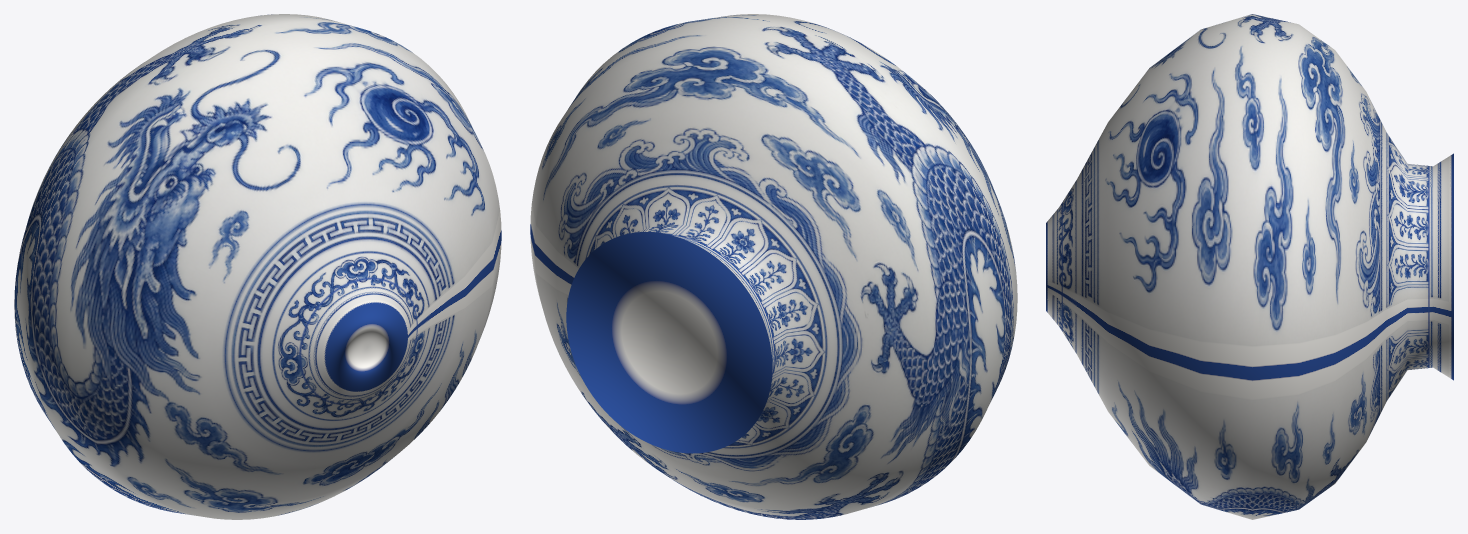
Rendered from dragon-jar-final.glb.
The picture shows the model from 3 angles, left to right: view 1: azimuth 30°, elevation 25°; view 2: azimuth 150°, elevation 25°; view 3: azimuth 270°, elevation 25°; orthographic projection. The views are drawn at different scales.
Parts seen in each view (by area): view 1: dragon_jar; view 2: dragon_jar; view 3: dragon_jar.
Boxes of the visible parts, <box> form: dragon_jar: <box>14,14,501,519</box>; dragon_jar: <box>530,14,1017,519</box>; dragon_jar: <box>1046,14,1453,519</box>.
Bounding box in the file's own units: 1.96 × 1.96 × 1.58.
Materials: 1 (1 with a texture image).
